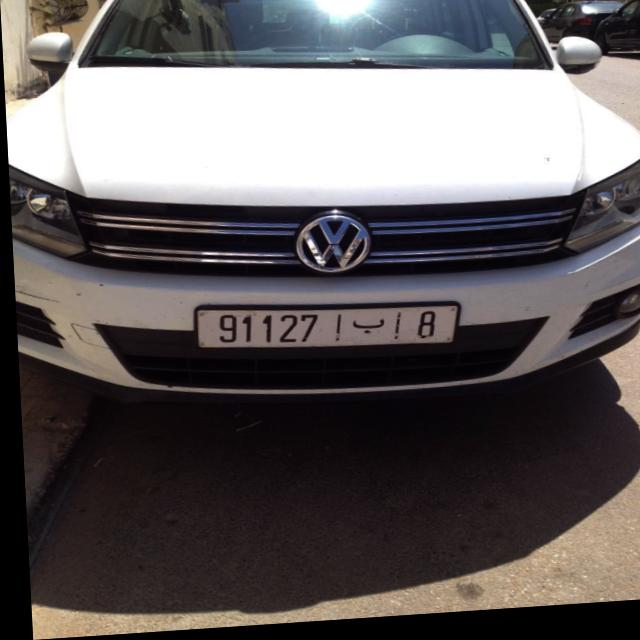License-Plate: (192, 311, 455, 352)
